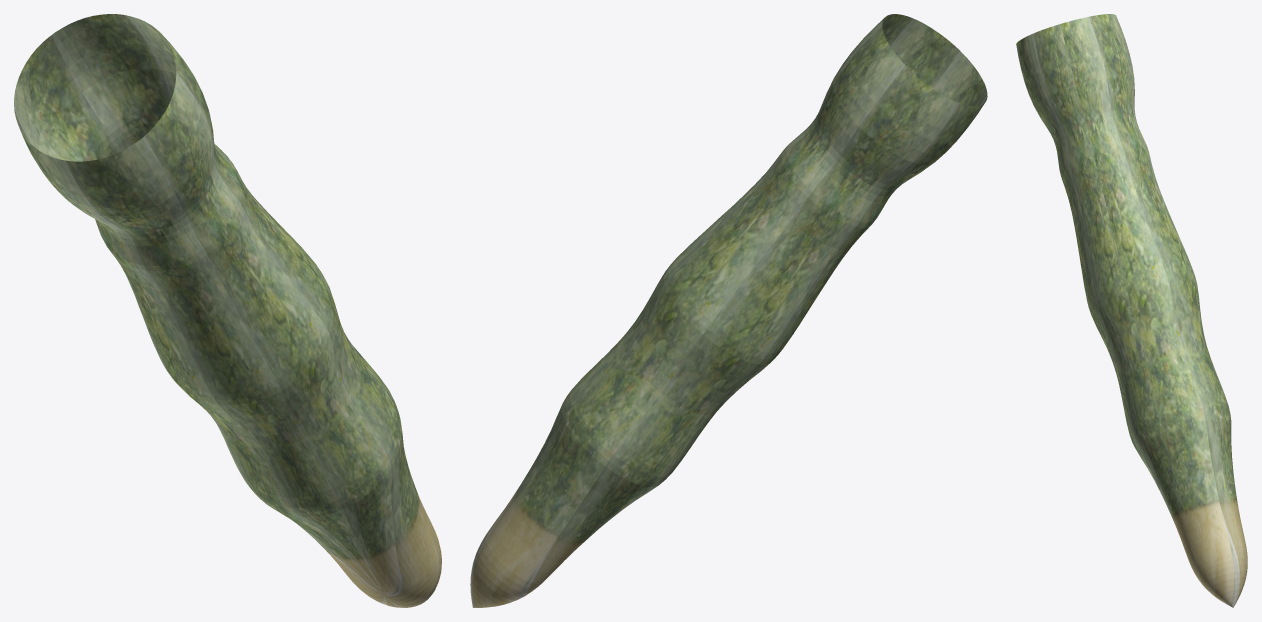
The model's file is cigarro3.dae.
3 renders of one model, left to right at view 1: azimuth 30°, elevation 25°; view 2: azimuth 150°, elevation 25°; view 3: azimuth 270°, elevation 25°, orthographic. The views are drawn at different scales.
Visible parts, largest first — view 1: node; view 2: node; view 3: node.
Boxes of the visible parts, x1=… form: node: x1=14, y1=14, x2=441, y2=607; node: x1=470, y1=14, x2=987, y2=607; node: x1=1016, y1=14, x2=1247, y2=607.
Bounding box in the file's own units: 23.7 × 32.86 × 14.72.
Materials: 1 (1 with a texture image).
